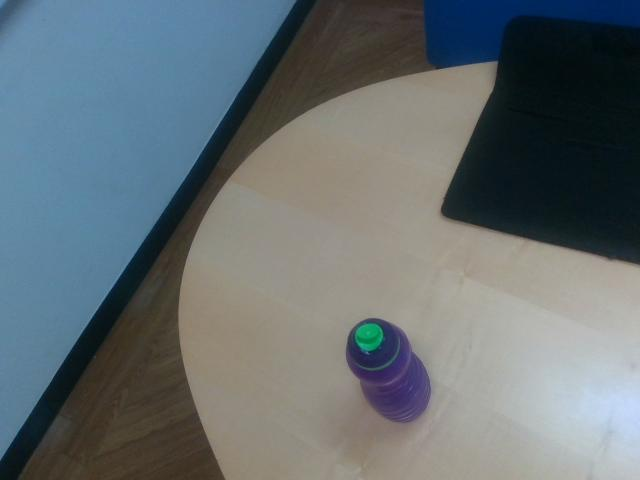bottle: (346, 318, 433, 425)
